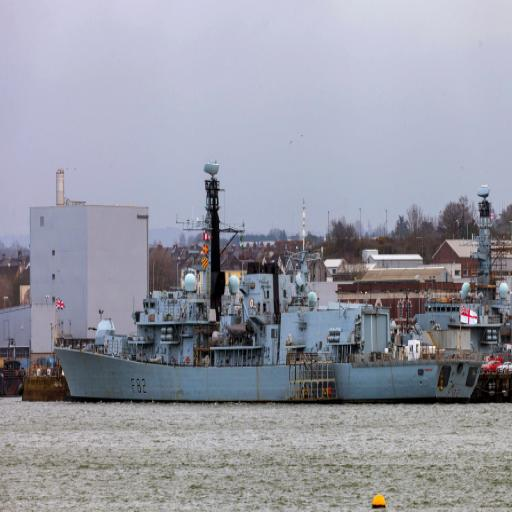Fragata: (49, 168, 490, 410)
